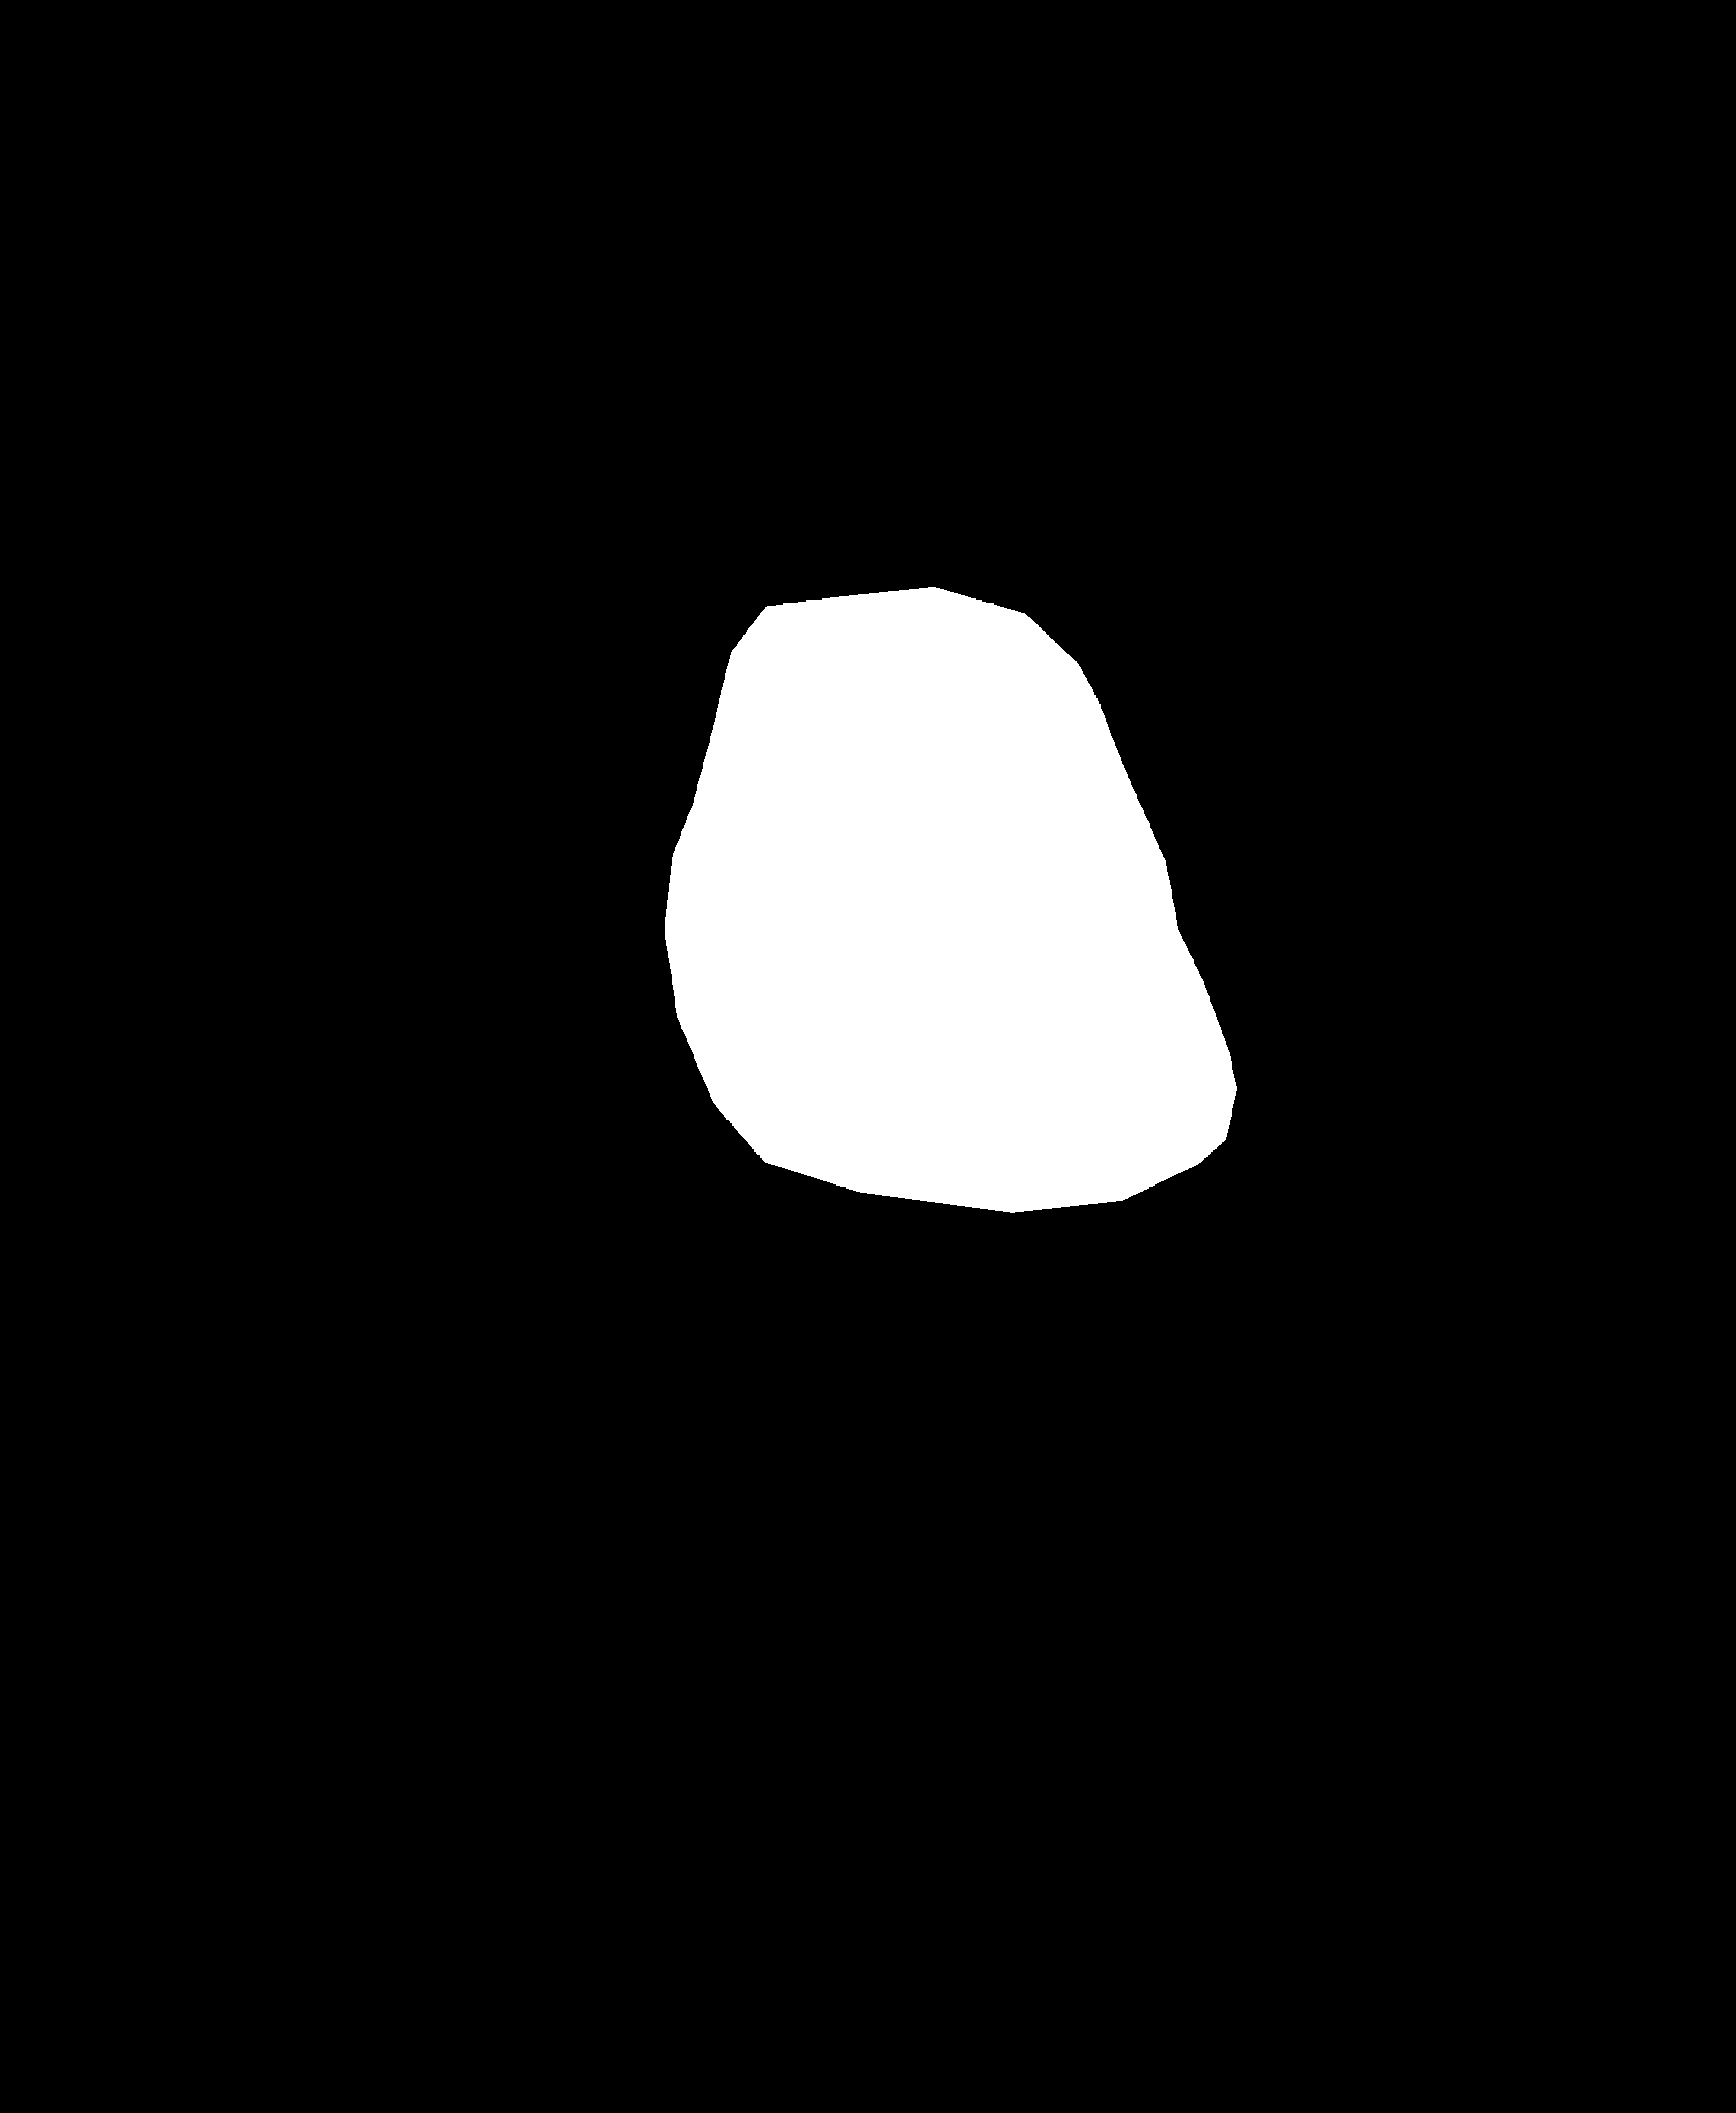heart: (656, 772, 1241, 1183)
left_lung: (147, 128, 786, 1339)
right_lung: (906, 133, 1499, 1214)
